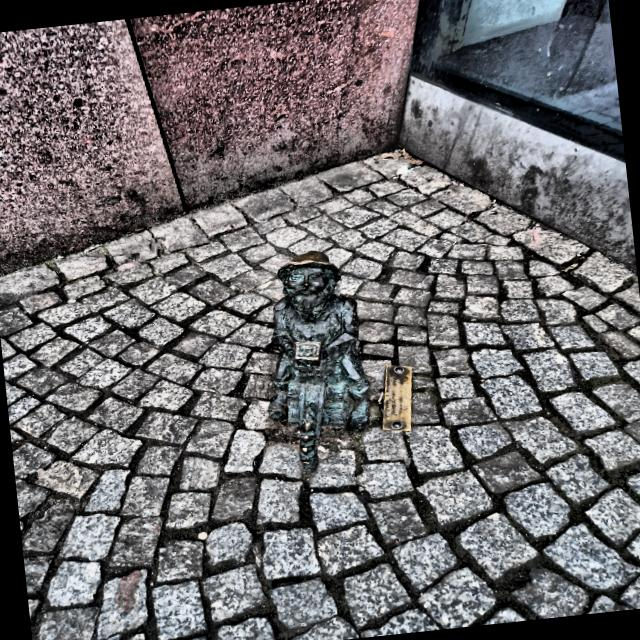Automatek: (269, 250, 369, 472)
